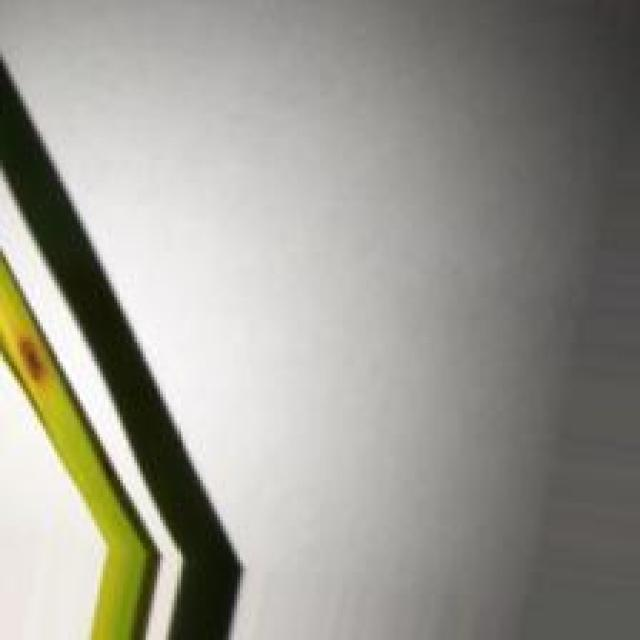Brown_Spot: (12, 336, 55, 391)
